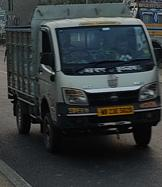Truck: (6, 2, 162, 155)
